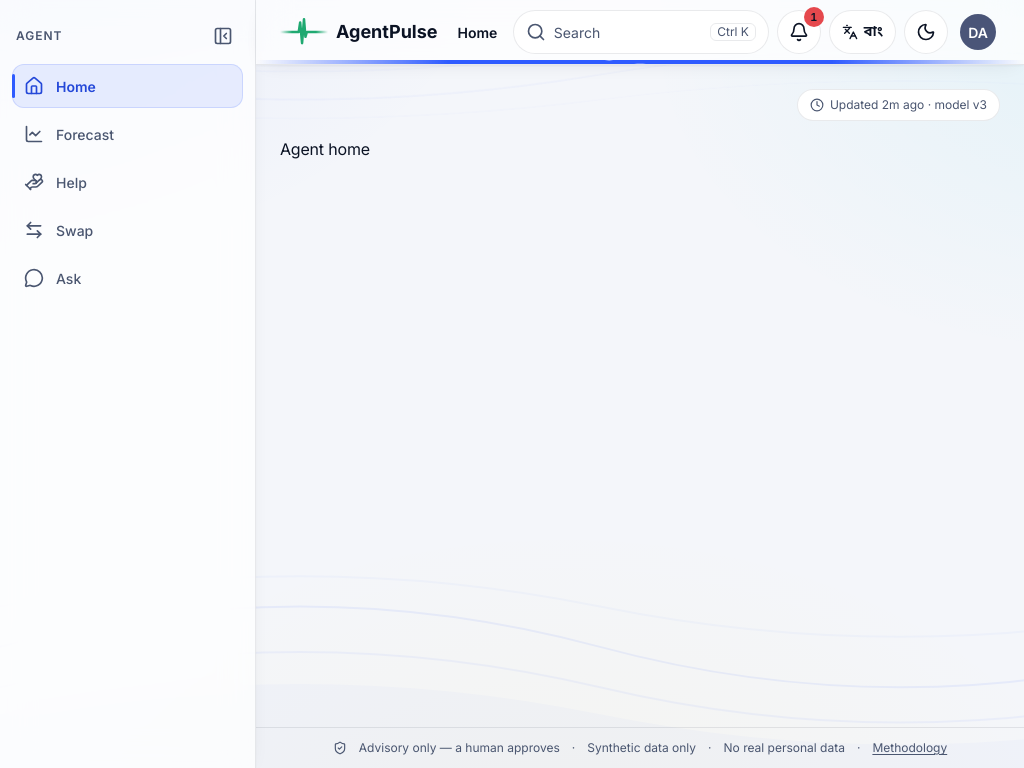
Test: app shell › marks a notification read from the bell panel
Expected: the text with test id "notification-badge" reads "1", [810,10,817,24]
What coordinates should you click on to do the following:
click the button named "Notifications, 1 unread"
I would click on:
 (799, 32)
Its box is [777,10,821,54].
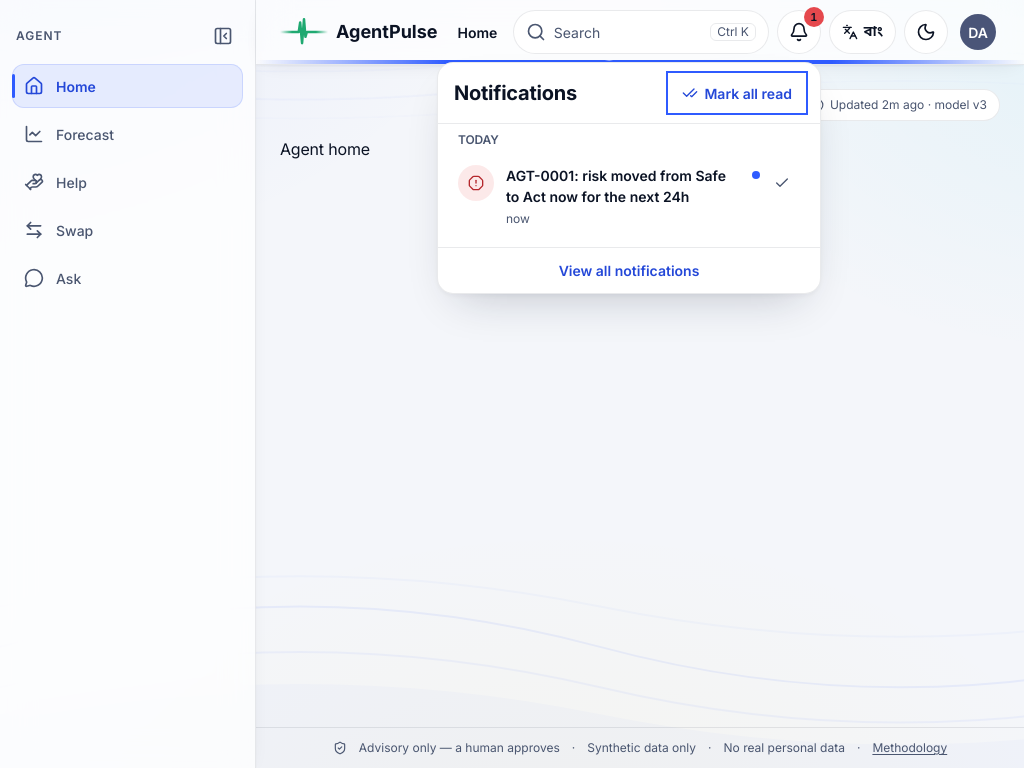
Now the button "AGT-0001: risk moved from Safe to Act now for the next 24h" is shown, box [506,165,740,207]
What coordinates should you click on to do the following:
click the button named "Mark as read: AGT-0001: risk moved from Safe to Act now for"
I would click on:
 (782, 183)
Its box is [764,165,800,201].
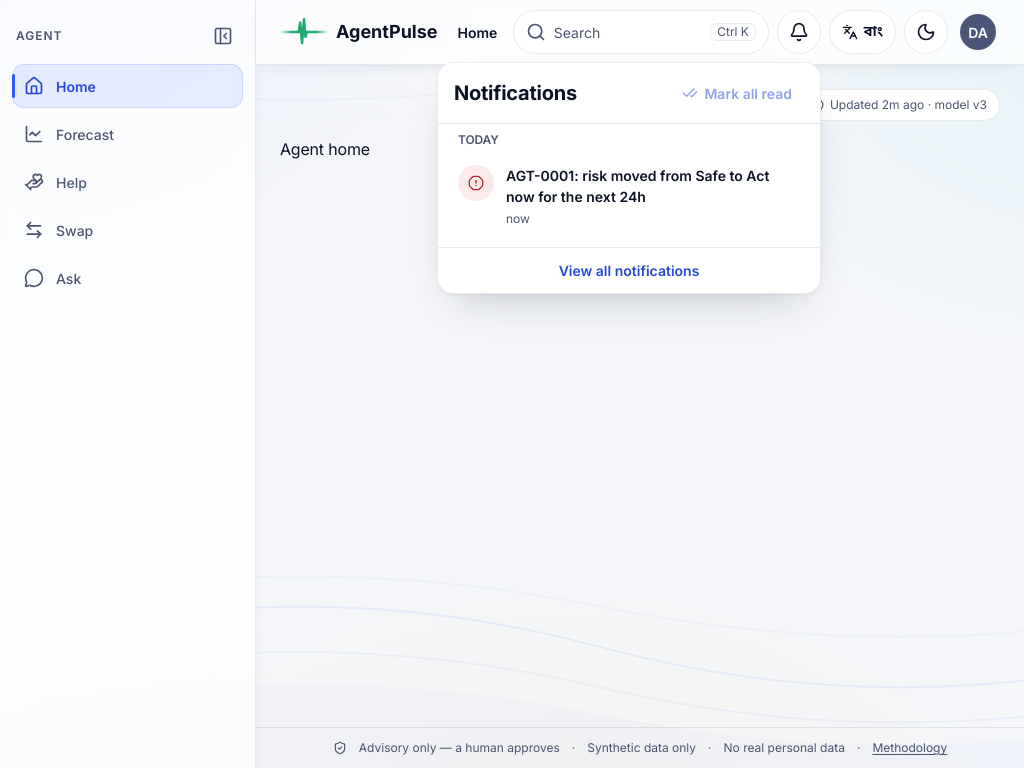
Expected: the button named "Notifications" is shown, [777,10,821,54]
Now the text with test id "notification-badge" is gone
